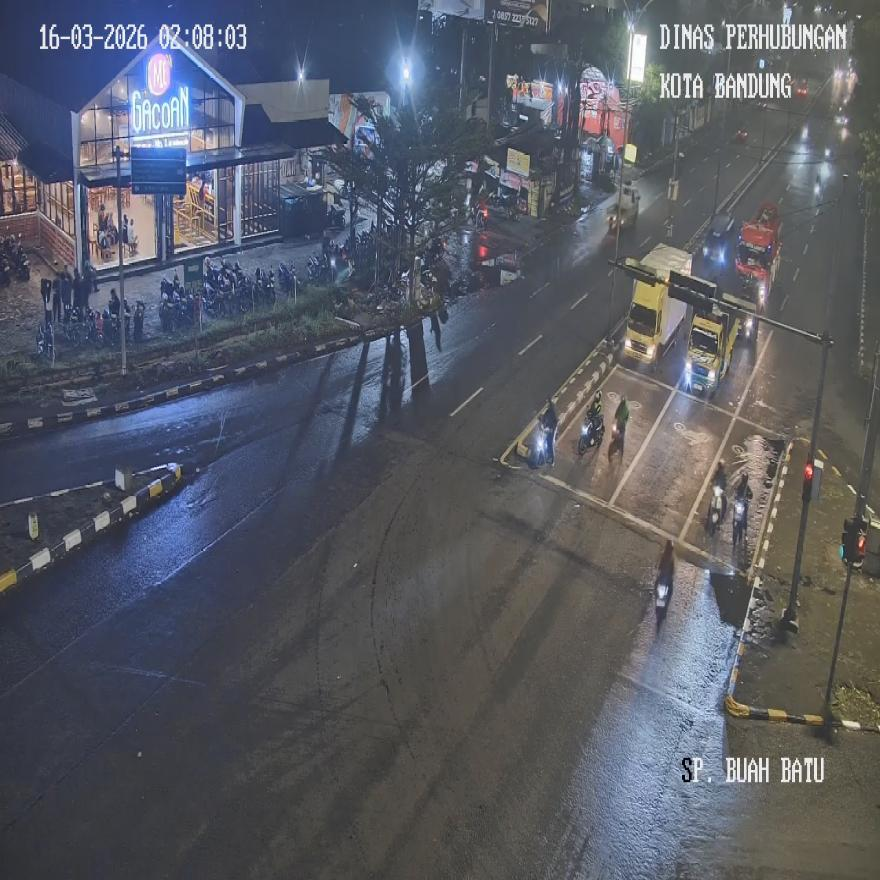Motor: (2, 233, 30, 282), (530, 417, 556, 468), (609, 396, 629, 456), (577, 410, 603, 454), (705, 482, 726, 534), (655, 566, 673, 621), (732, 495, 748, 549), (36, 319, 53, 362), (130, 301, 144, 342)
